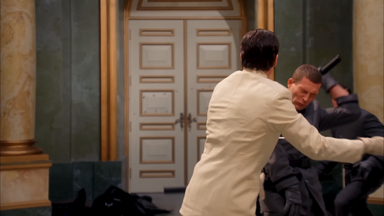bladed_weapon: (317, 51, 344, 76)
